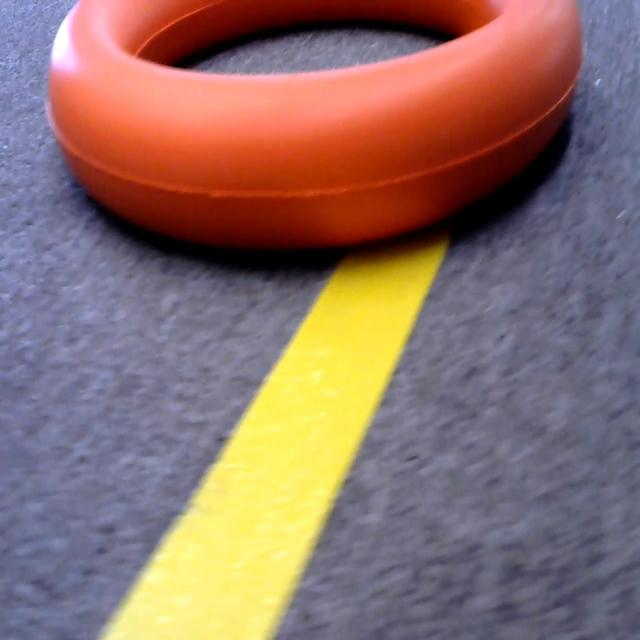note: (0, 0, 597, 233)
